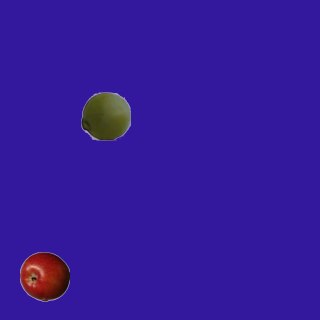Apple Braeburn: (19, 251, 69, 301)
Grape White 4: (80, 90, 130, 140)
